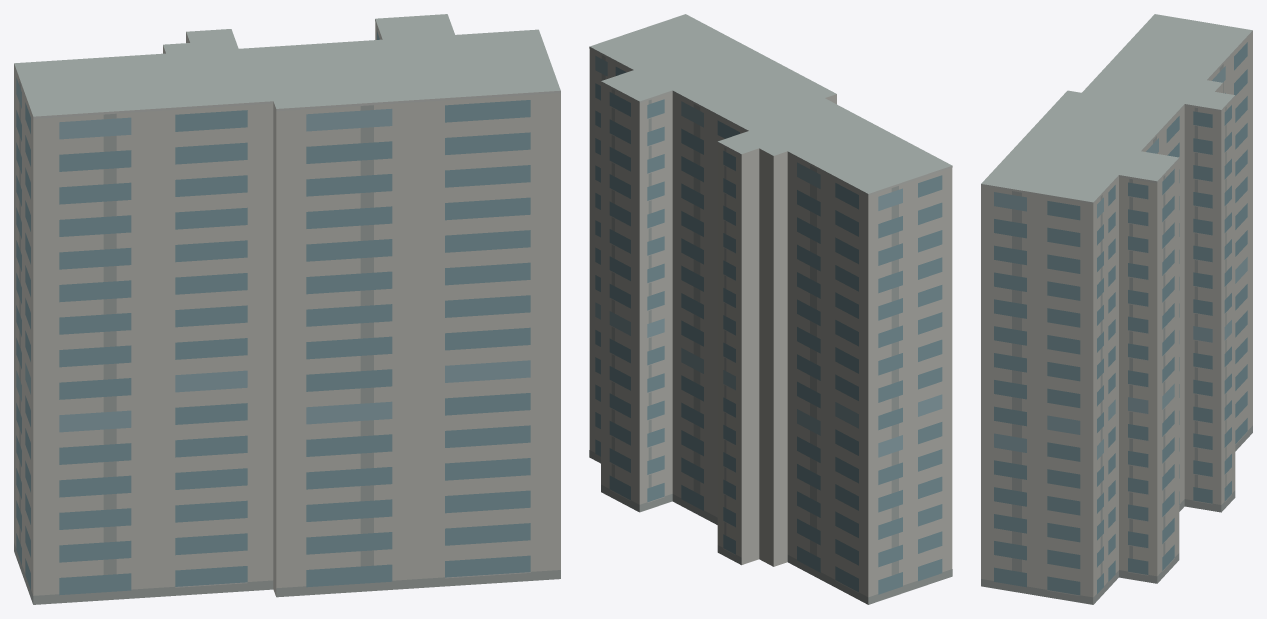
File: residential-1a316afd-d213-48db-8a40-cf5d266dbc1c.glb
The picture shows the model from 3 angles, left to right: view 1: azimuth 30°, elevation 25°; view 2: azimuth 150°, elevation 25°; view 3: azimuth 270°, elevation 25°; orthographic projection. The views are drawn at different scales.
Parts seen in each view (by area): view 1: residential-1a316afd-d213-48db-8a40-cf5d266dbc1c.tmp; view 2: residential-1a316afd-d213-48db-8a40-cf5d266dbc1c.tmp; view 3: residential-1a316afd-d213-48db-8a40-cf5d266dbc1c.tmp.
Boxes of the visible parts, x1,y1,x2,y2 form: residential-1a316afd-d213-48db-8a40-cf5d266dbc1c.tmp: (14, 14, 560, 604); residential-1a316afd-d213-48db-8a40-cf5d266dbc1c.tmp: (589, 14, 952, 604); residential-1a316afd-d213-48db-8a40-cf5d266dbc1c.tmp: (981, 14, 1252, 604).
Bounding box in the file's own units: 49.2 × 49 × 30.
